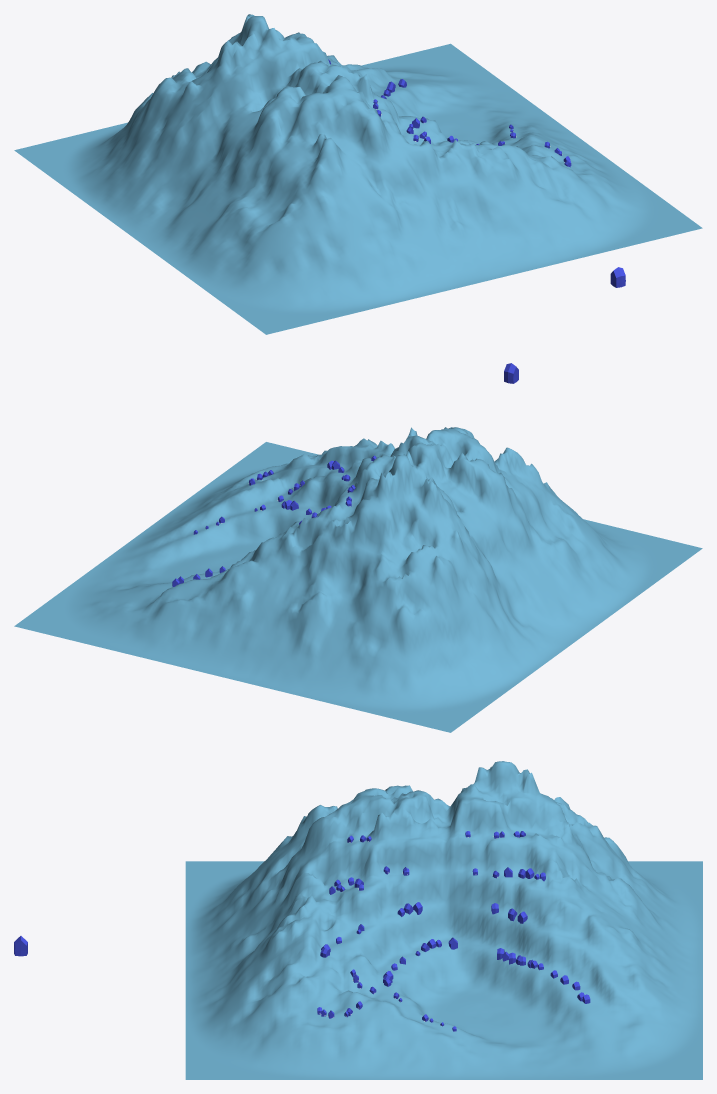
Rendered from oras.fbx.
The picture shows the model from 3 angles, top to bottom: view 1: azimuth 30°, elevation 25°; view 2: azimuth 150°, elevation 25°; view 3: azimuth 270°, elevation 25°; orthographic projection. The views are drawn at different scales.
Visible parts, largest first — view 1: Landscape; view 2: Landscape; view 3: Landscape.
Part boxes in pixels (bbox=[...]): Landscape: bbox=[14, 14, 702, 334]; Landscape: bbox=[14, 427, 702, 732]; Landscape: bbox=[185, 761, 702, 1079].
Bounding box in the file's own units: 441 × 170 × 587.
